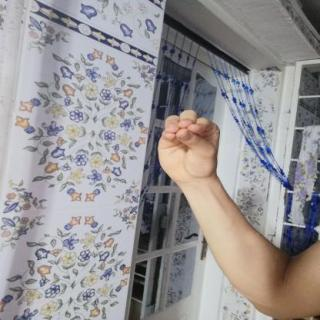HA: (147, 104, 234, 191)
